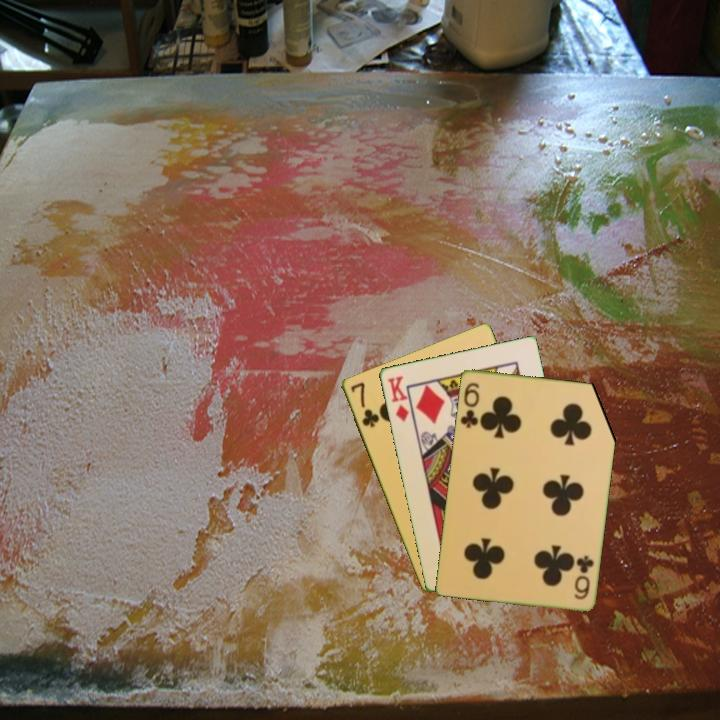6c: (570, 552, 596, 602), (457, 379, 482, 430)
7c: (347, 378, 381, 430)
Kd: (384, 372, 411, 425)
